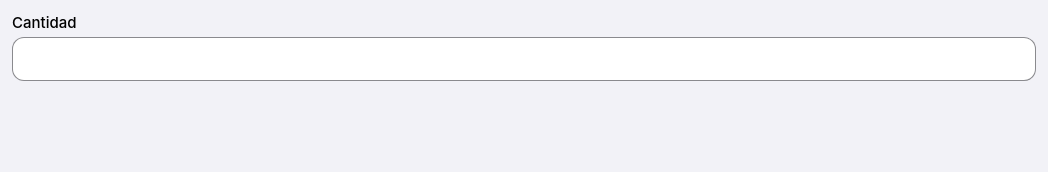
Test case: NumberField › rejects a minus sign unless negatives are allowed
Later steps or results of the test are not shown.
Type "-5" into the field labelled "Cantidad".
click(524, 59); type("-5")  # box [12, 37, 1036, 81]
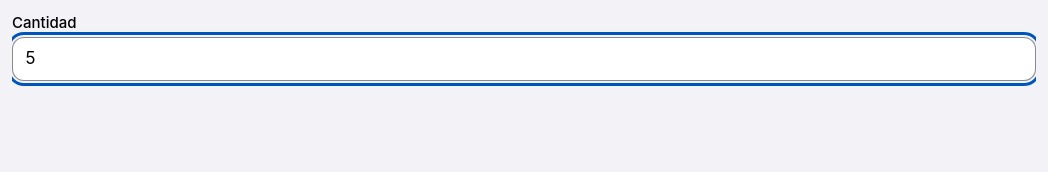
Result: the field labelled "Cantidad" holds "5" at [12, 37, 1036, 81]
